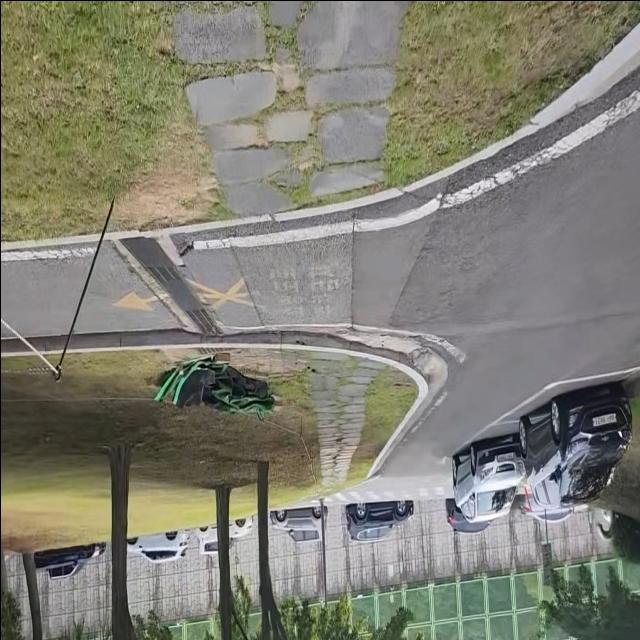obstacle: (447, 379, 633, 518)
road: (363, 88, 640, 488)
sidewalk: (146, 0, 412, 213), (305, 349, 383, 494)
